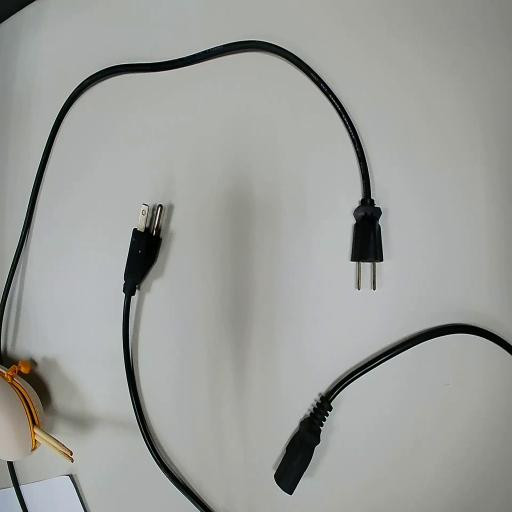wire: (0, 41, 381, 327), (275, 324, 511, 493), (124, 219, 211, 511)
